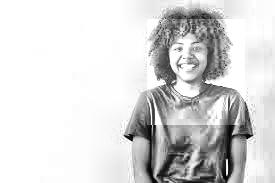happy: (148, 20, 246, 126)
